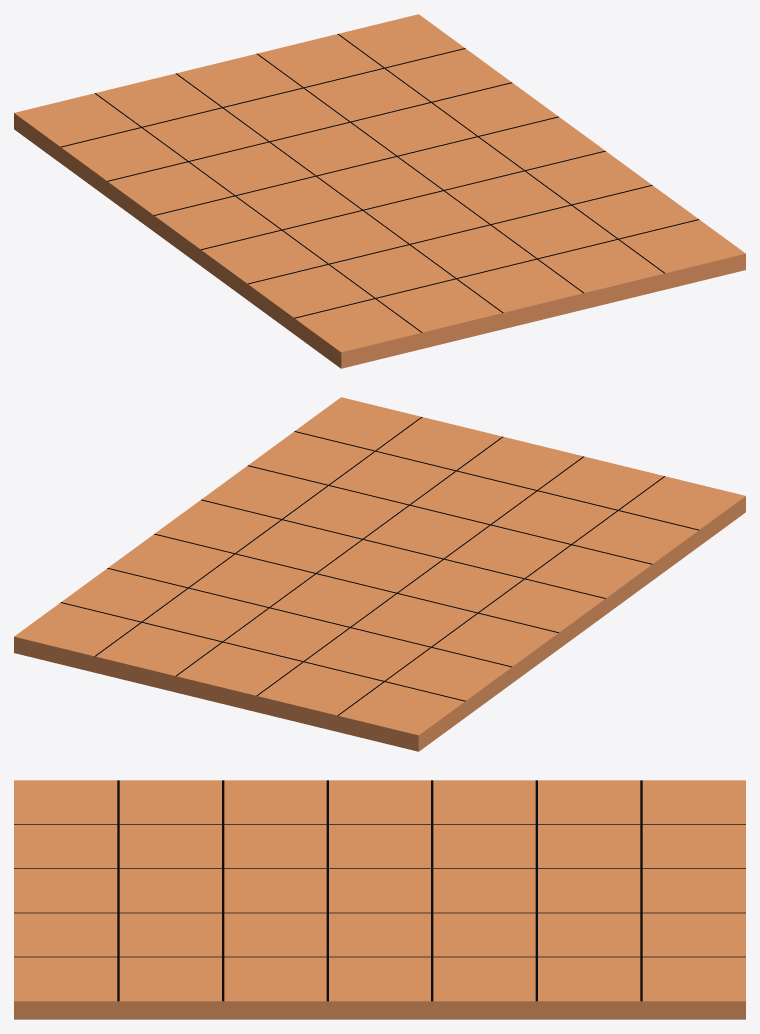
File: DominoBoard.fbx
The picture shows the model from 3 angles, top to bottom: view 1: azimuth 30°, elevation 25°; view 2: azimuth 150°, elevation 25°; view 3: azimuth 270°, elevation 25°; orthographic projection. The views are drawn at different scales.
Parts seen in each view (by area): view 1: DominoBoard; view 2: DominoBoard; view 3: DominoBoard.
Part boxes in pixels (x1,y1,x2,y2): DominoBoard: (14, 14, 745, 368); DominoBoard: (14, 397, 745, 751); DominoBoard: (14, 780, 745, 1019).
Size of the model in its own units: 150 by 5.79 by 210.
Materials: 1 (1 with a texture image).
